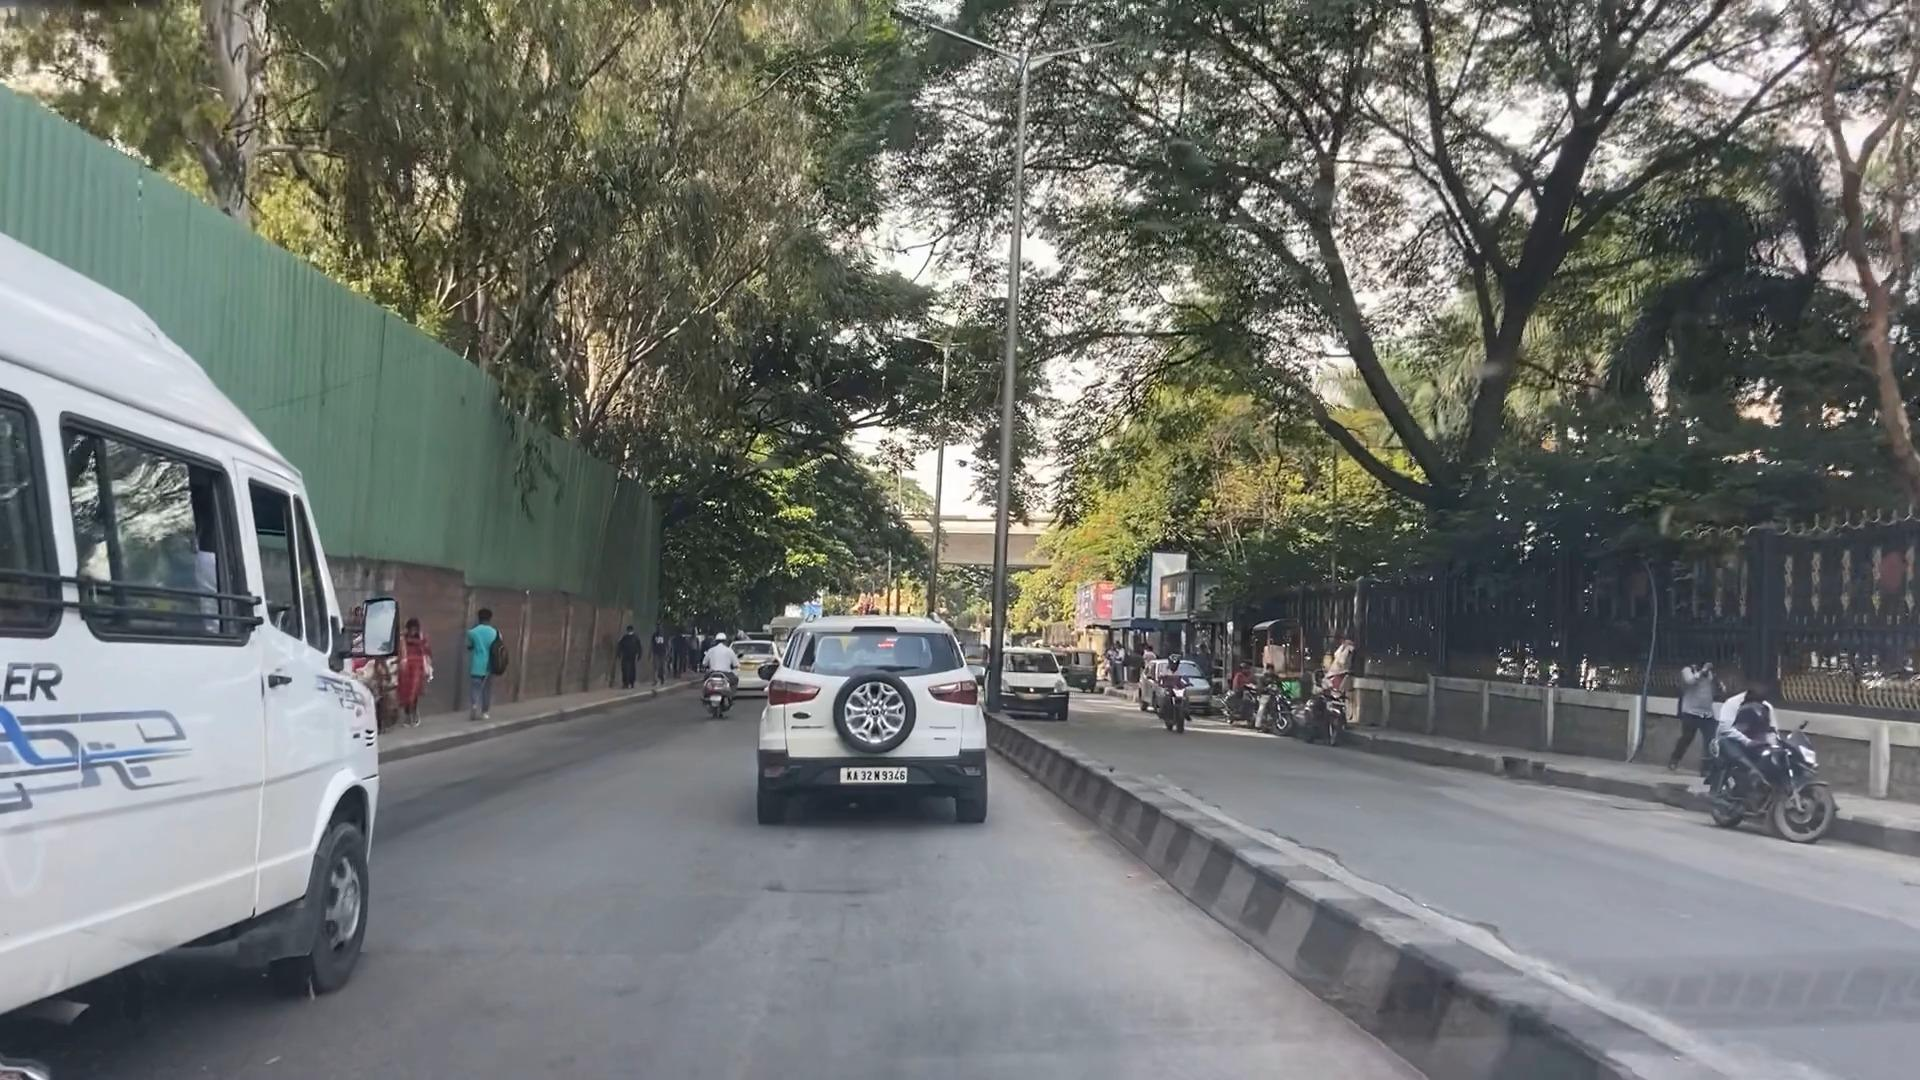HMV: (0, 233, 393, 1063)
LMV: (756, 608, 1011, 828)
